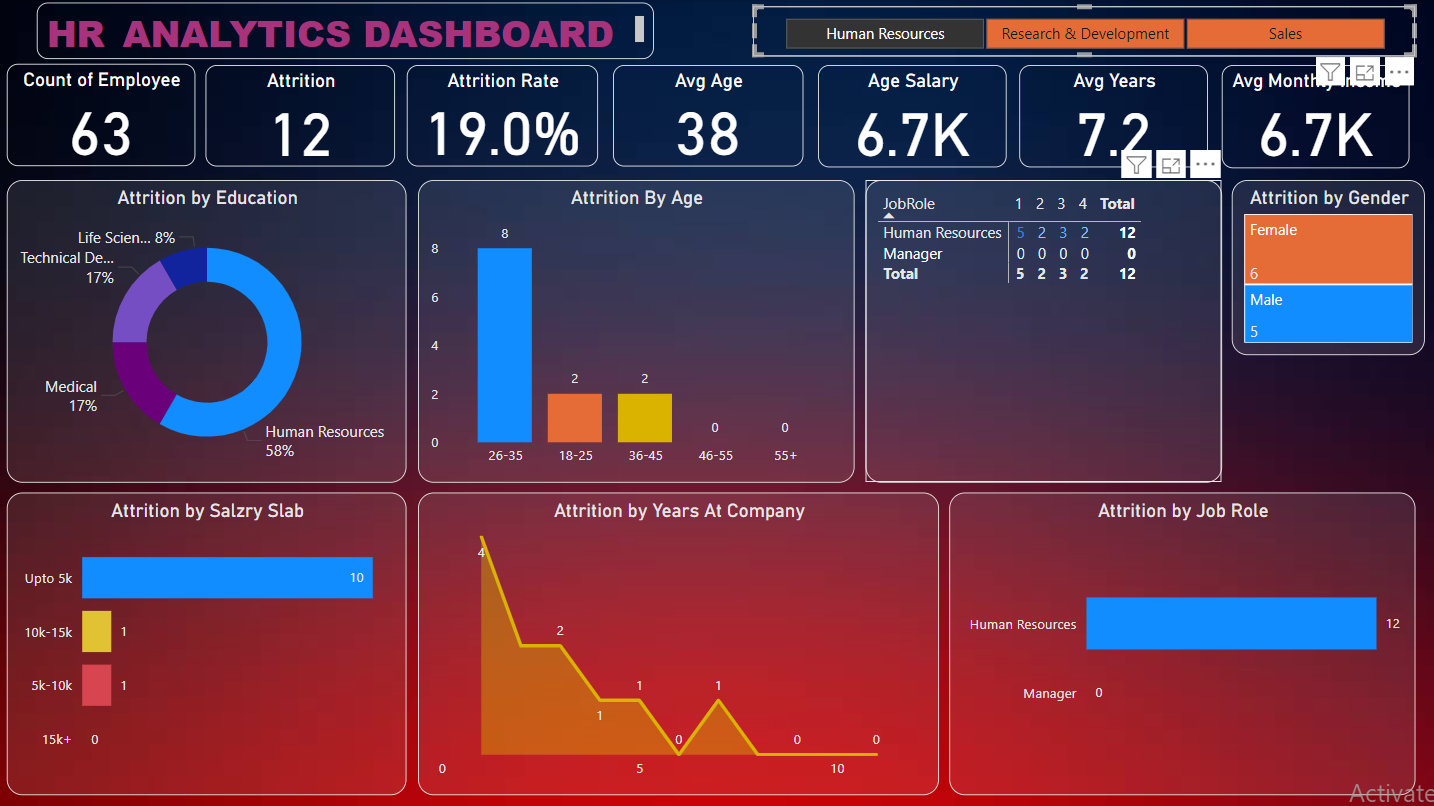

Layout of this report page (visuals, bound fields, positions):
{"tool":"powerbi","page":{"name":"Page 1","canvas":[1280,720],"ordinal":0},"visuals":[{"type":"card","title":"Count of Employee","fields":{"Values":["Count(HR_Analytics.EmpID)"]},"box":[7.8,56.8,168.1,91.3],"z":0},{"type":"card","title":"Attrition","fields":{"Values":["Sum(HR_Analytics.AttritionCount)"]},"box":[185.2,57.6,168.8,90.6],"z":1000},{"type":"card","title":"Attrition Rate","fields":{"Values":["HR_Analytics.AttritionRate"]},"box":[364,57.9,170.3,90.2],"z":2000},{"type":"card","title":"Avg Age","fields":{"Values":["Avg(HR_Analytics.Age)"]},"box":[547.7,57.9,169.2,90.2],"z":3000},{"type":"card","title":"Age Salary","fields":{"Values":["Avg(HR_Analytics.MonthlyIncome)"]},"box":[730.2,57.9,168.1,91.3],"z":4000},{"type":"card","title":"Avg Years","fields":{"Values":["Avg(HR_Analytics.YearsAtCompany)"]},"box":[909.5,57.9,168.1,91.3],"z":5000},{"type":"donutChart","title":"Attrition by Education","fields":{"Category":["HR_Analytics.EducationField"],"Y":["Sum(HR_Analytics.AttritionCount)"]},"box":[7.8,160.3,356.2,269.4],"z":6000},{"type":"columnChart","title":"Attrition By Age","fields":{"Category":["HR_Analytics.AgeGroup"],"Y":["Sum(HR_Analytics.AttritionCount)"]},"box":[374,160.3,388.5,269.4],"z":7000},{"type":"pivotTable","fields":{"Rows":["HR_Analytics.JobRole"],"Columns":["HR_Analytics.JobSatisfaction"],"Values":["Sum(HR_Analytics.AttritionCount)"]},"box":[772.5,160.3,317.3,269.4],"z":8000},{"type":"barChart","title":"Attrition by Salzry Slab","fields":{"Category":["HR_Analytics.SalarySlab"],"Y":["Sum(HR_Analytics.AttritionCount)"]},"box":[7.8,438.6,356.2,269.4],"z":9000},{"type":"barChart","title":"Attrition by Job Role","fields":{"Category":["HR_Analytics.JobRole"],"Y":["Sum(HR_Analytics.AttritionCount)"]},"box":[847.1,438.6,415.2,269.4],"z":10000},{"type":"areaChart","title":"Attrition by Years At Company","fields":{"Category":["HR_Analytics.YearsAtCompany"],"Y":["Sum(HR_Analytics.AttritionCount)"]},"box":[374,438.6,464.2,269.4],"z":11000},{"type":"treemap","title":"Attrition by Gender","fields":{"Group":["HR_Analytics.Gender"],"Values":["Sum(HR_Analytics.AttritionCount)"]},"box":[1098.8,160.5,172.1,155.8],"z":12000},{"type":"slicer","fields":{"Values":["HR_Analytics.Department"]},"box":[672.4,5.6,590,44.5],"z":13000},{"type":"textbox","box":[34.9,2.3,551.2,55.8],"z":14000},{"type":"card","title":"Avg Monthly Income","fields":{"Values":["Avg(HR_Analytics.MonthlyIncome)"]},"box":[1089.5,58.1,167.4,91.9],"z":15000}]}

Visuals, with their boxes in screenshot pixels (x1, y1, x2, y2), scaled from the page's 1280x720 canvas onto the 1434x806 screenshot:
"Count of Employee" card: [left=9, top=64, right=197, bottom=166]
"Attrition" card: [left=207, top=64, right=397, bottom=166]
"Attrition Rate" card: [left=408, top=65, right=599, bottom=166]
"Avg Age" card: [left=614, top=65, right=803, bottom=166]
"Age Salary" card: [left=818, top=65, right=1006, bottom=167]
"Avg Years" card: [left=1019, top=65, right=1207, bottom=167]
"Attrition by Education" donutChart: [left=9, top=179, right=408, bottom=481]
"Attrition By Age" columnChart: [left=419, top=179, right=854, bottom=481]
pivotTable - HR_Analytics.JobRole x HR_Analytics.JobSatisfaction: [left=865, top=179, right=1221, bottom=481]
"Attrition by Salzry Slab" barChart: [left=9, top=491, right=408, bottom=793]
"Attrition by Job Role" barChart: [left=949, top=491, right=1414, bottom=793]
"Attrition by Years At Company" areaChart: [left=419, top=491, right=939, bottom=793]
"Attrition by Gender" treemap: [left=1231, top=180, right=1424, bottom=354]
slicer - HR_Analytics.Department: [left=753, top=6, right=1414, bottom=56]
textbox: [left=39, top=3, right=657, bottom=65]
"Avg Monthly Income" card: [left=1221, top=65, right=1408, bottom=168]
